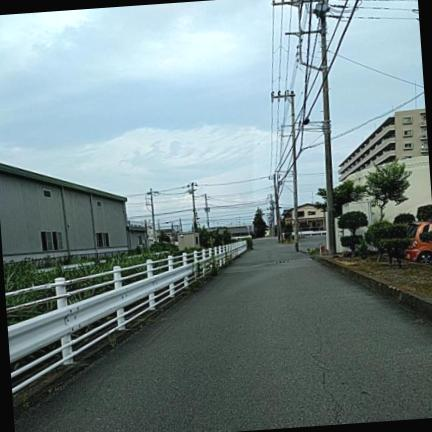Road: (14, 239, 431, 431)
